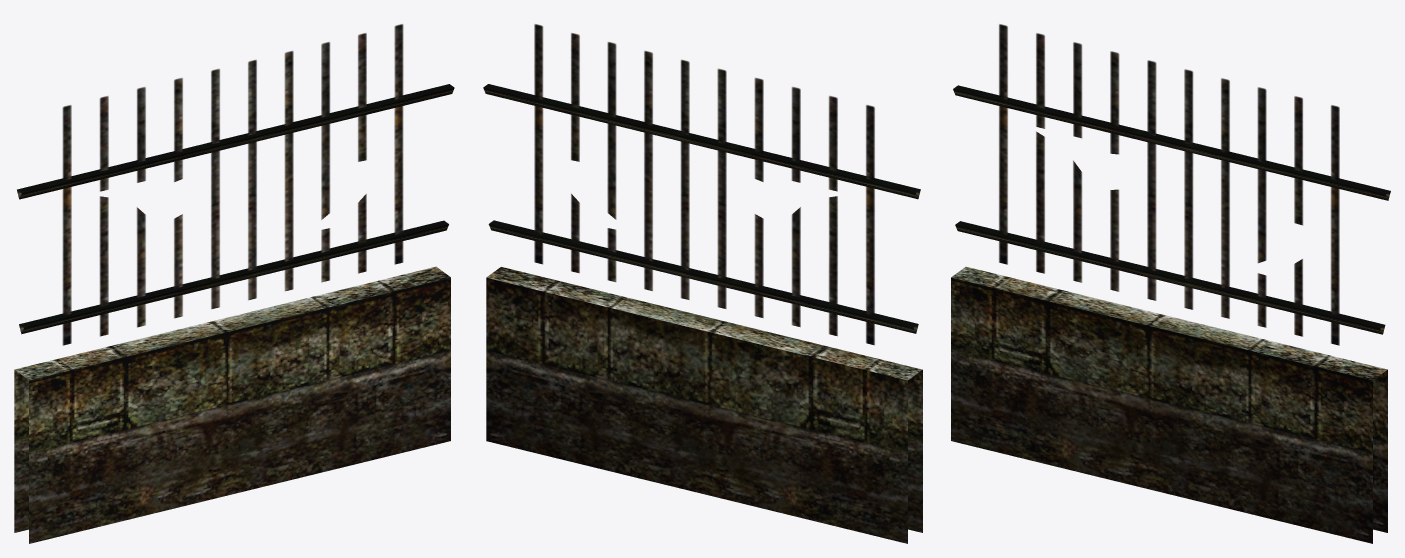
Rendered from cem_fence1.glb.
The picture shows the model from 3 angles, left to right: view 1: azimuth 30°, elevation 25°; view 2: azimuth 150°, elevation 25°; view 3: azimuth 330°, elevation 25°; orthographic projection.
Visible parts, largest first — view 1: cem_fence1-col; view 2: cem_fence1-col; view 3: cem_fence1-col.
Part boxes in pixels (x1,y1,x2,y2): cem_fence1-col: (14,24,454,543); cem_fence1-col: (483,24,922,543); cem_fence1-col: (951,24,1390,543).
Size of the model in its own units: 3.92 by 3.69 by 0.234.
Materials: 3 (3 with a texture image).
